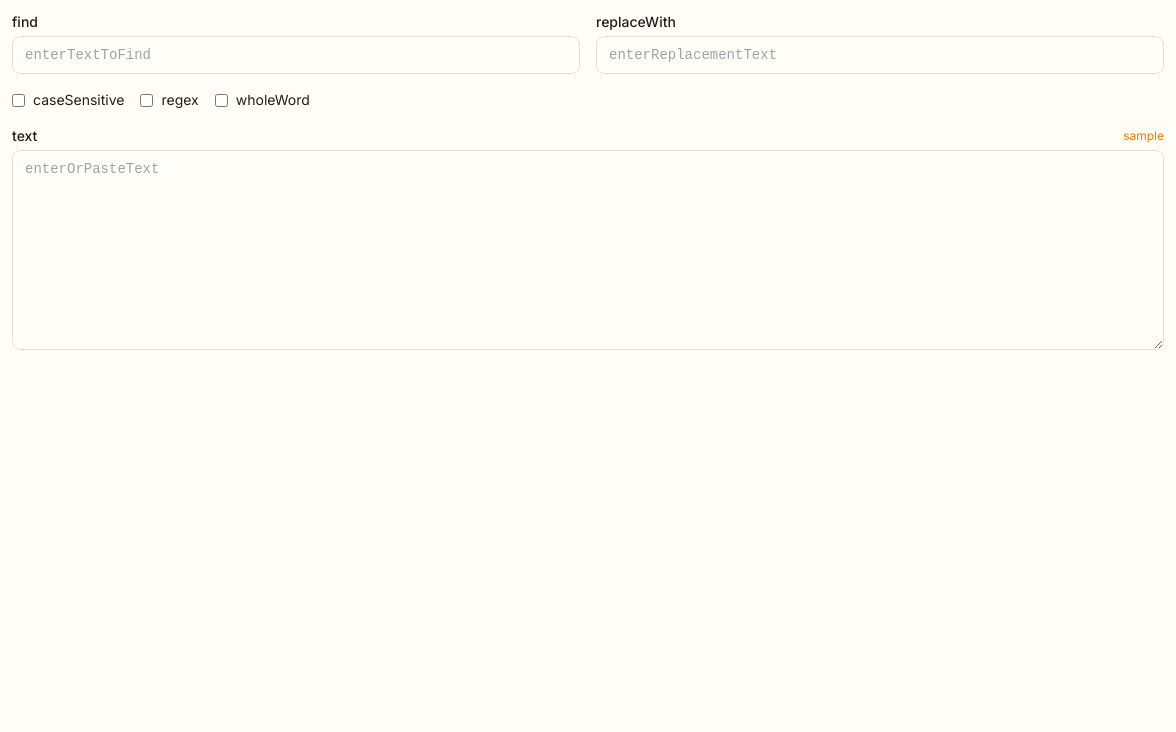
Test: FindAndReplace › replaces all occurrences
The width and height of the screenshot is (1176, 732).
Type "aaa bbb aaa bbb aaa" into the text box named "Text input for find and replace". click: (588, 250)
box: [12,150,1164,350]
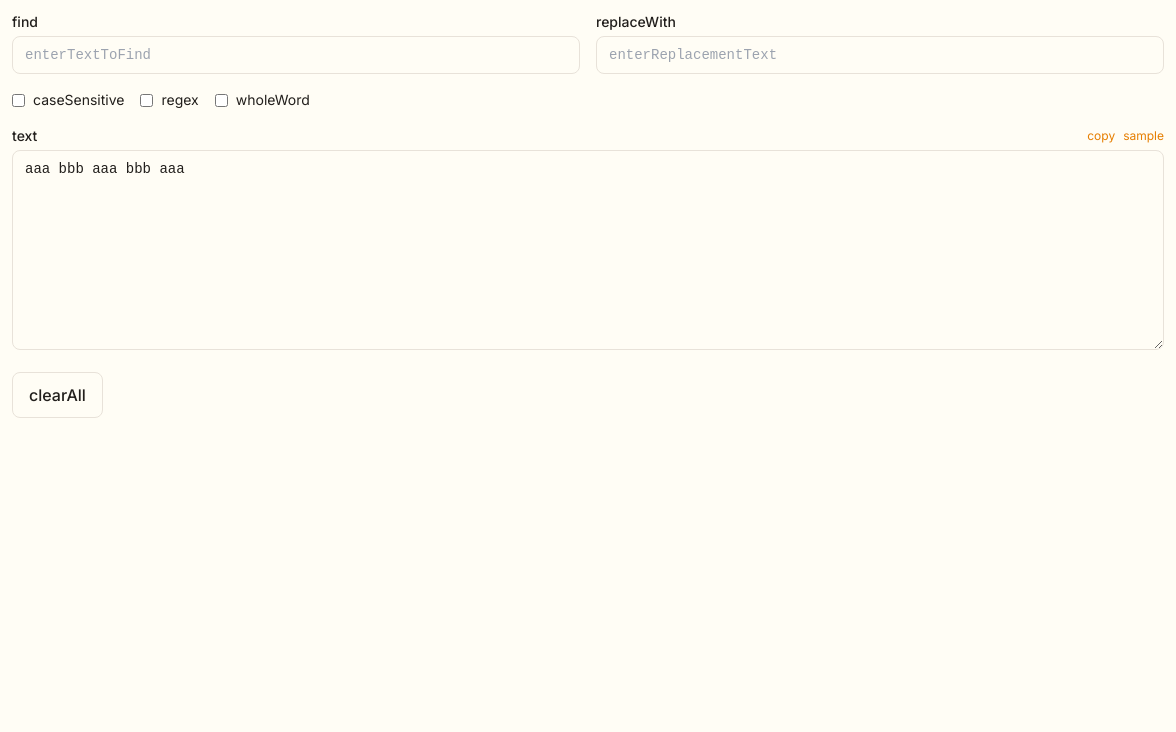
Type "aaa" into the field labelled "Find". click: (296, 55)
box: [12,36,580,74]
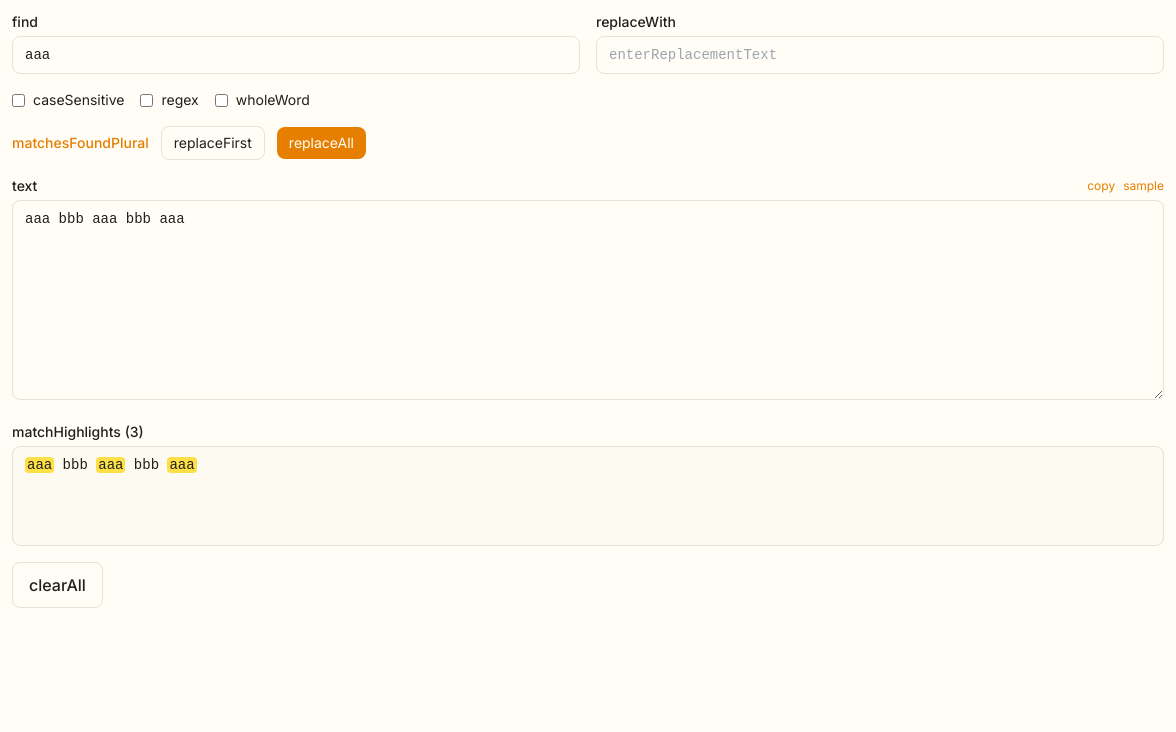
Type "xxx" into the field named "replaceWith". click: (880, 55)
box: [596,36,1164,74]
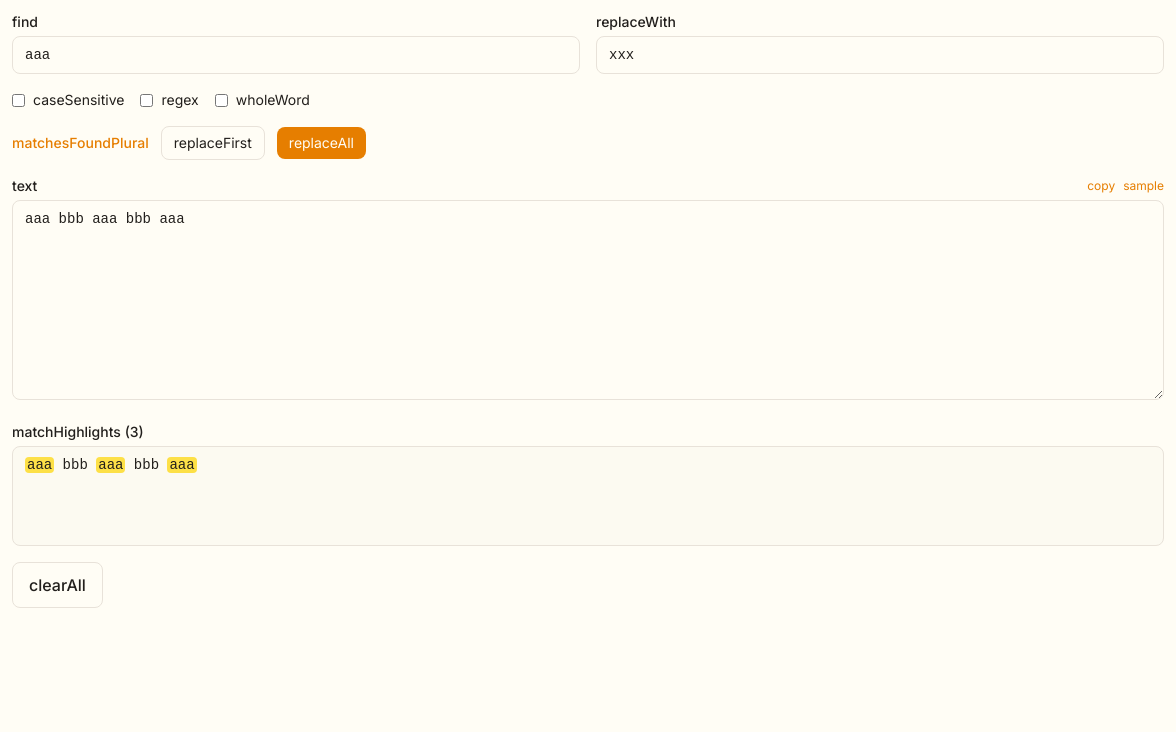
Click the button "replaceAll". click: click(321, 143)
box: [277,127,366,159]
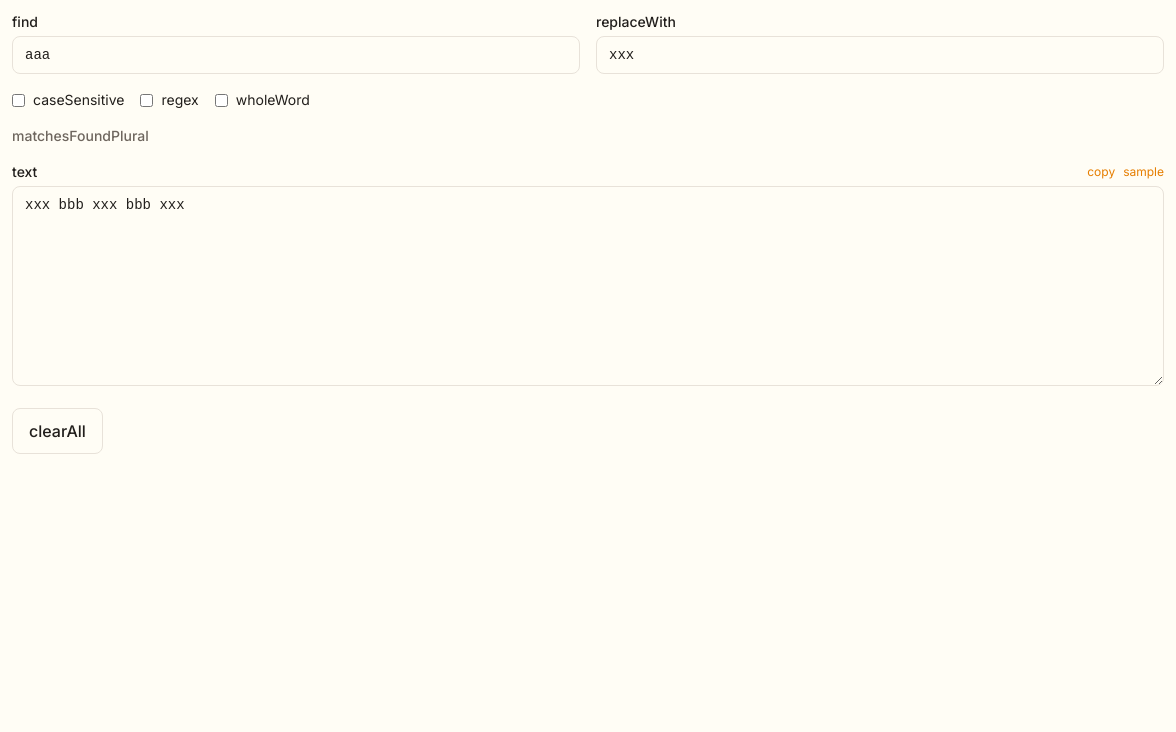
Now the text box named "Text input for find and replace" holds "xxx bbb xxx bbb xxx", box [12,186,1164,386]
